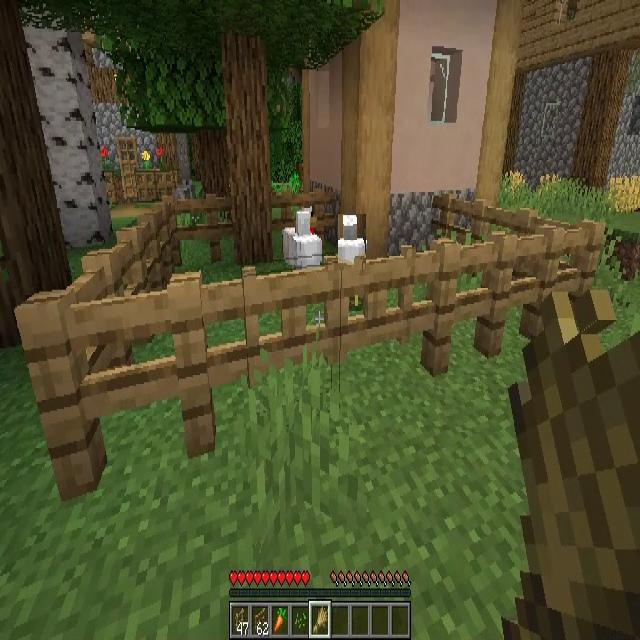duck: (284, 207, 322, 272), (338, 214, 366, 270)
